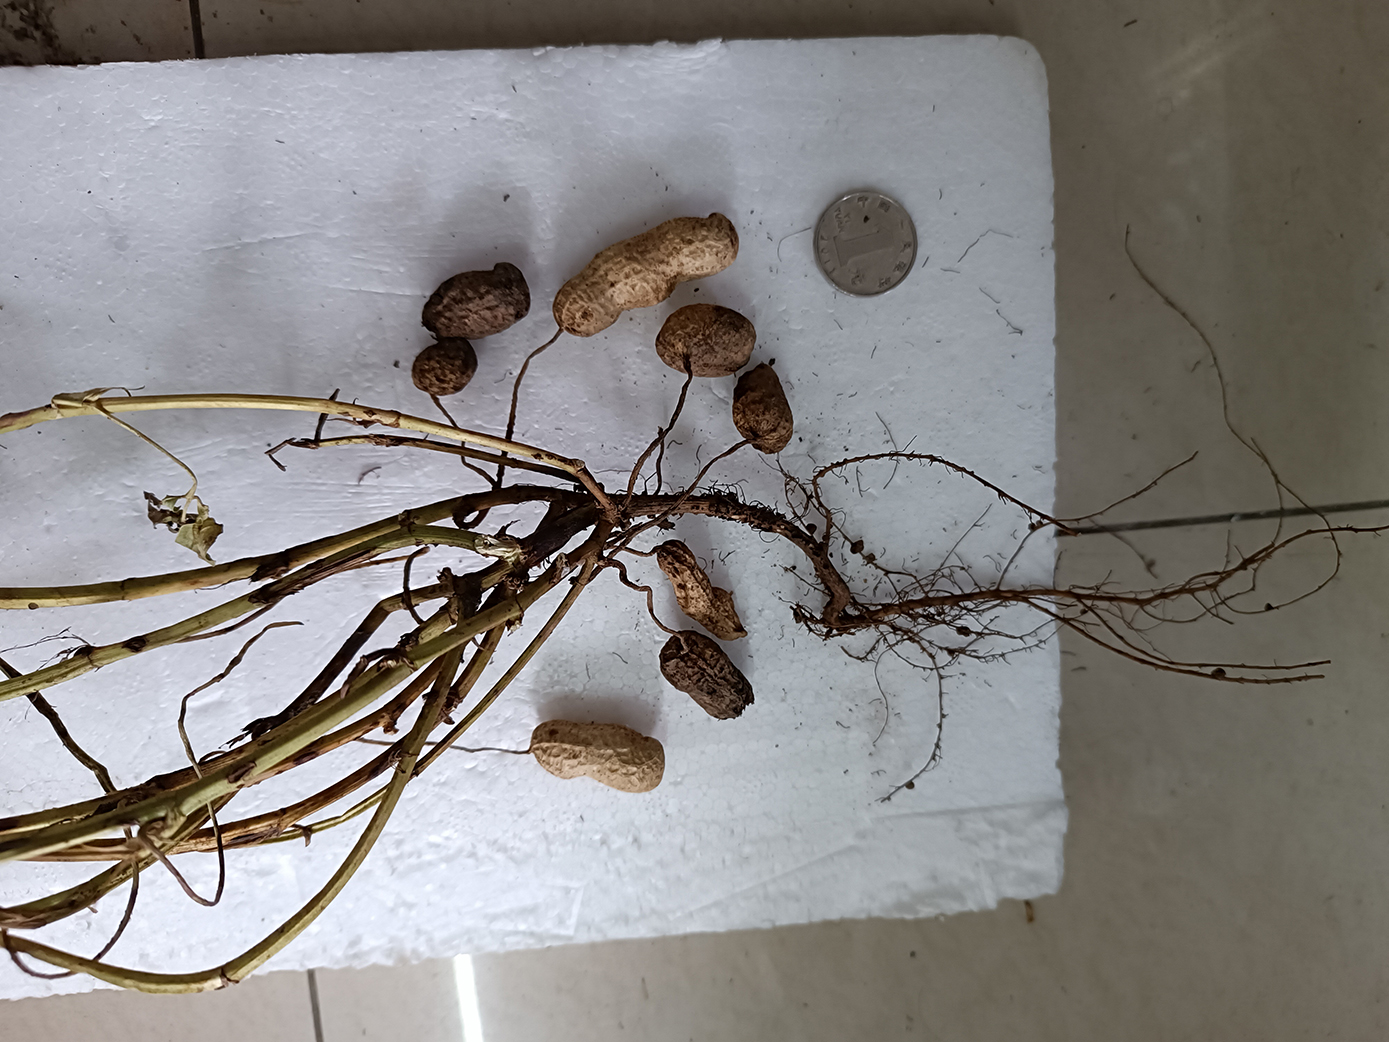h: (549, 210, 740, 332), (530, 723, 662, 794)
l: (658, 630, 759, 722), (659, 543, 751, 641), (419, 260, 529, 337), (656, 306, 759, 374), (734, 364, 792, 455), (410, 340, 477, 394)
